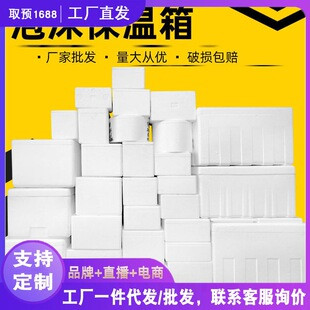泡沫箱: (6, 68, 304, 282)
